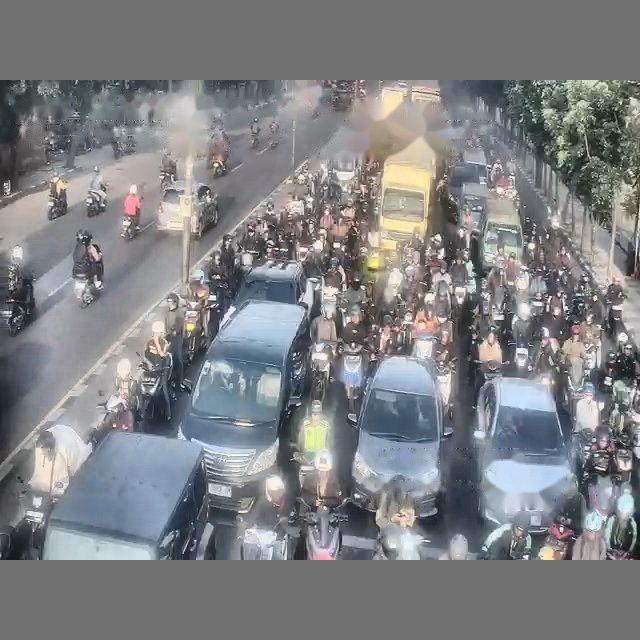Mobil: (178, 301, 309, 512), (43, 432, 212, 559), (348, 355, 452, 517), (473, 377, 572, 532), (221, 260, 317, 325), (156, 181, 185, 230)
Motor: (137, 353, 172, 423), (92, 394, 137, 447), (23, 490, 53, 559), (342, 343, 364, 413), (185, 301, 206, 362), (310, 343, 332, 401), (543, 522, 575, 559), (436, 360, 454, 418), (74, 275, 99, 308), (85, 190, 106, 217), (47, 196, 67, 220), (121, 215, 138, 240), (159, 170, 173, 192), (250, 133, 258, 148)
Truk: (377, 137, 437, 251)
